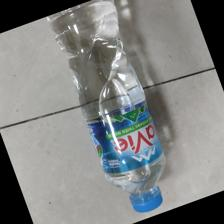Lavie: (42, 1, 166, 212)
